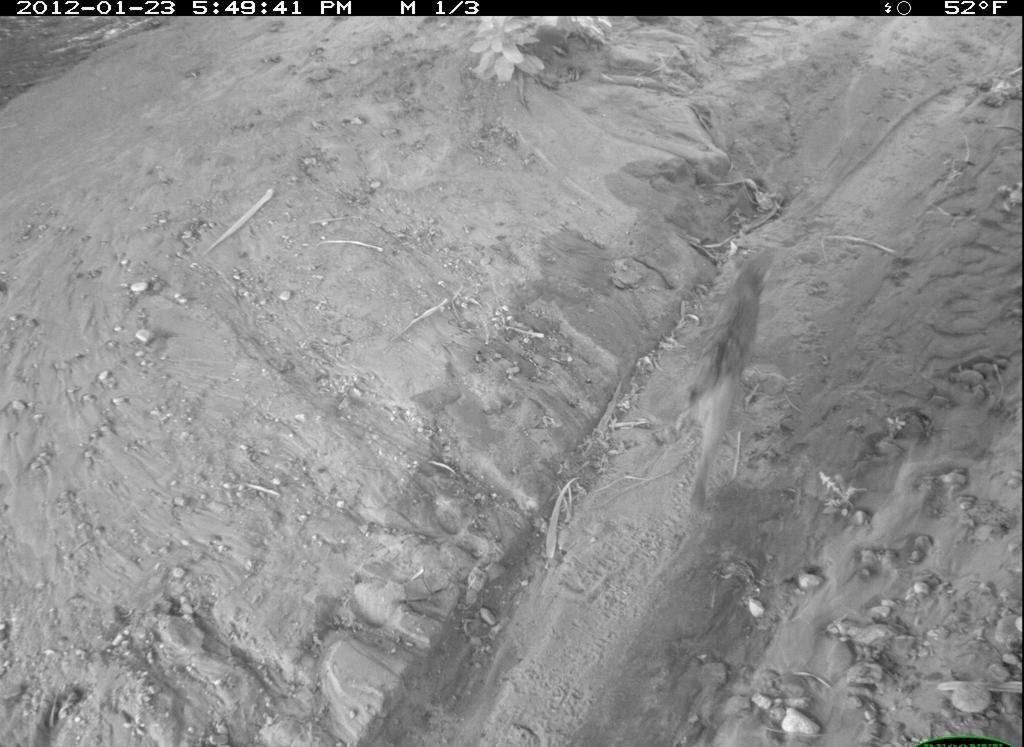bobcat: (655, 233, 788, 511)
